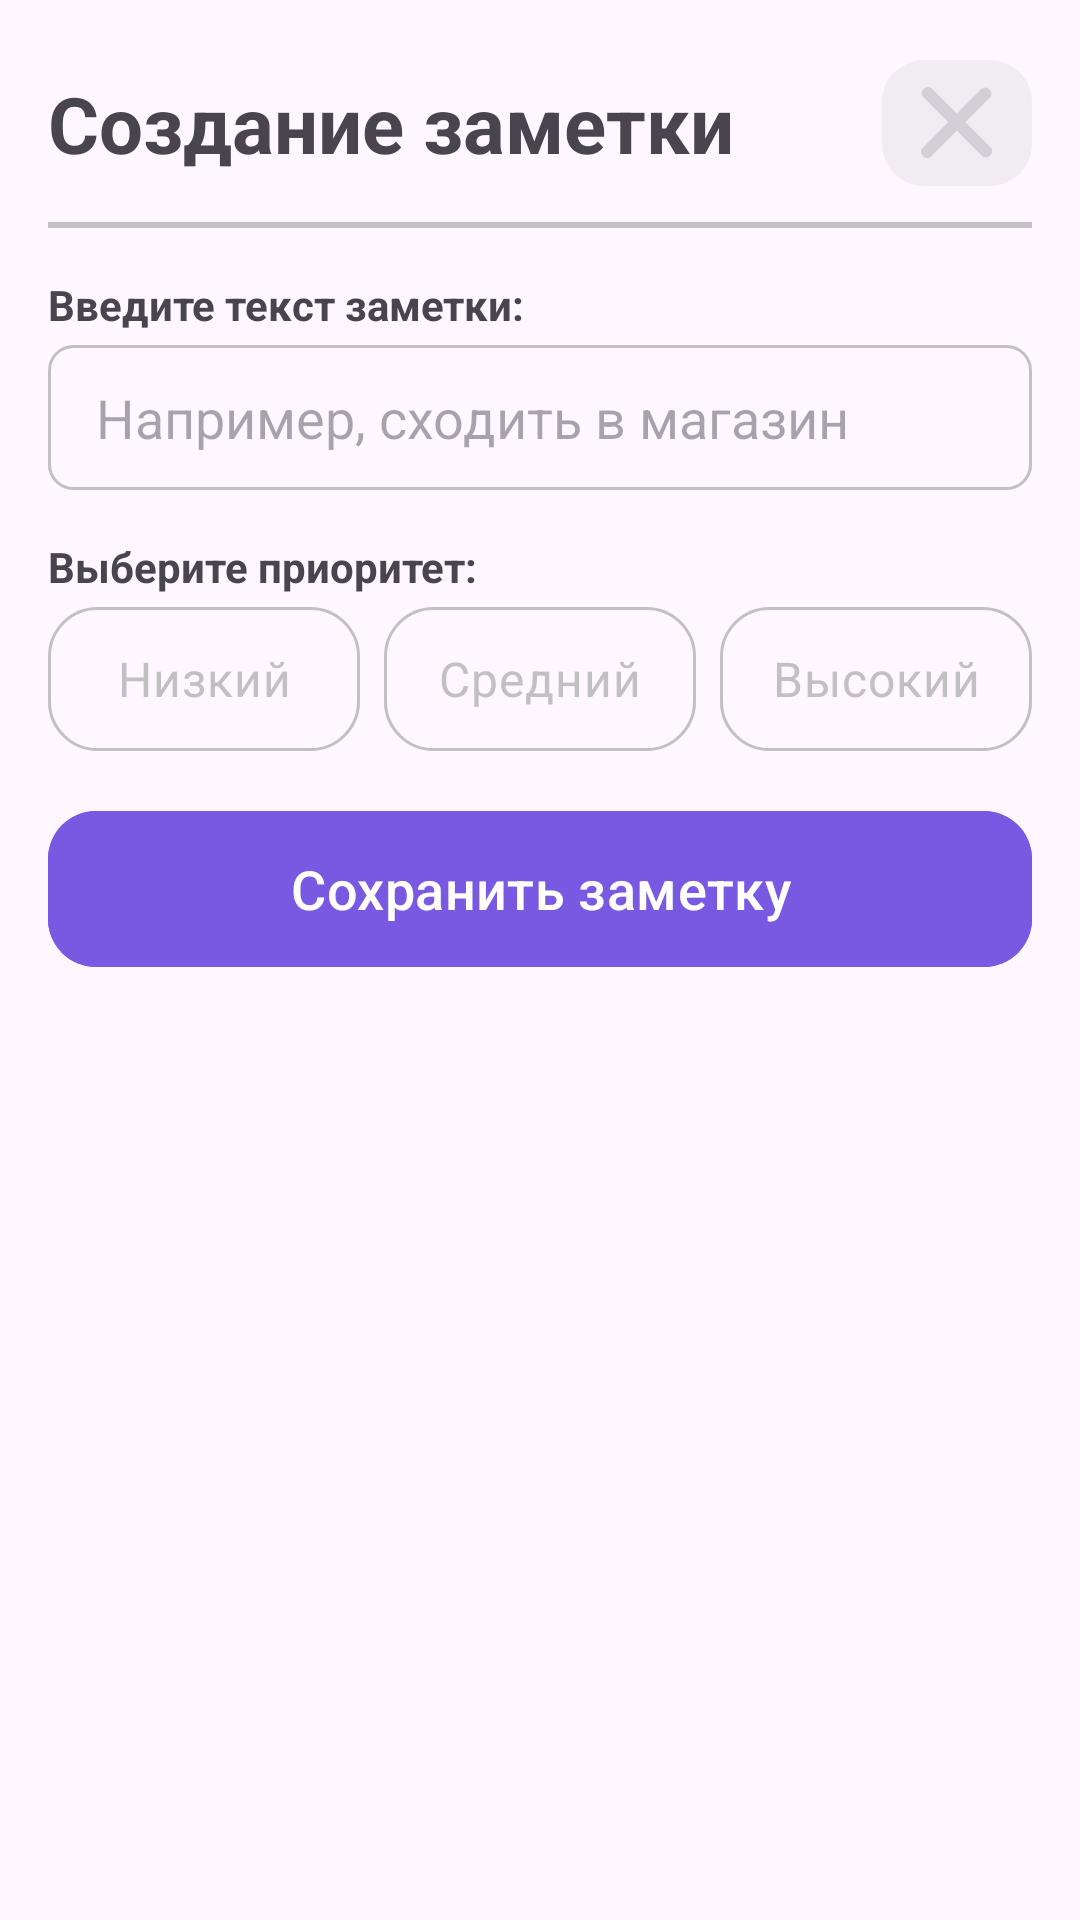

Locate icon controls on the screen. Image size 1080×1920, boxes as (x1,y1,x2,y2).
Кнопка закрытия окна добавления заметки: (882,60,1032,186)
